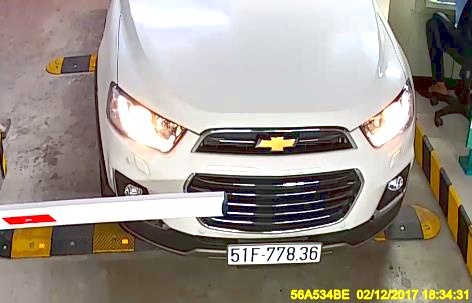plate: (224, 238, 321, 265)
